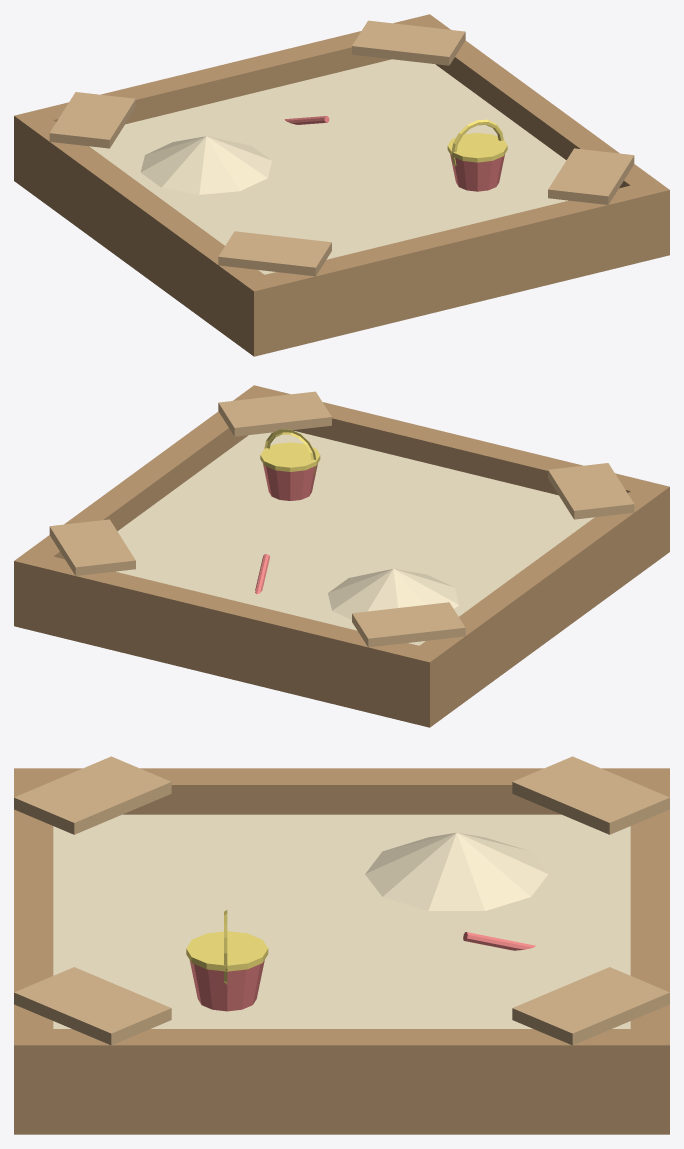
File: th3_sandkasten.glb
3 renders of one model, top to bottom at view 1: azimuth 30°, elevation 25°; view 2: azimuth 150°, elevation 25°; view 3: azimuth 270°, elevation 25°, orthographic. The views are drawn at different scales.
Visible parts, largest first — view 1: Sandkasten; view 2: Sandkasten; view 3: Sandkasten.
Part boxes in pixels (box(x1,y1,x2,y2)): Sandkasten: box(14, 14, 669, 356); Sandkasten: box(14, 385, 669, 727); Sandkasten: box(14, 756, 669, 1134).
Size of the model in its own units: 2 by 0.487 by 2.
